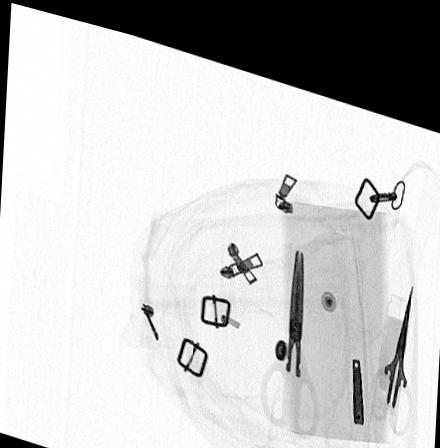Scissors: (259, 230, 320, 423), (369, 257, 417, 417)
